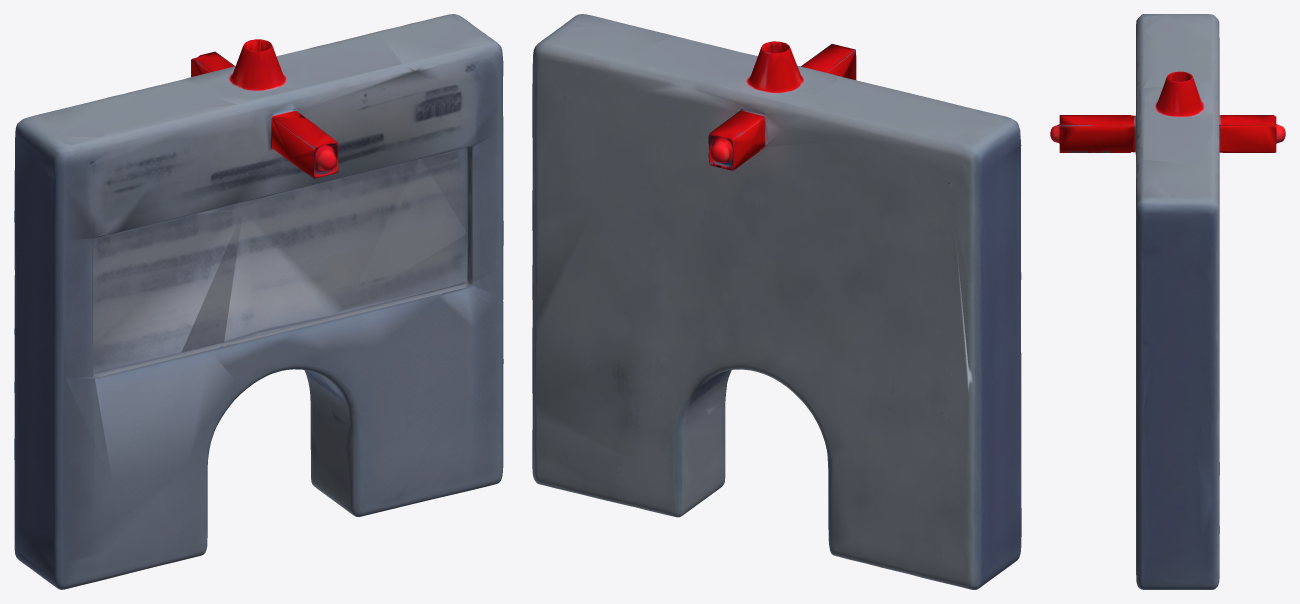
The model's file is obstacle_wallgap.glb.
3 renders of one model, left to right at view 1: azimuth 30°, elevation 25°; view 2: azimuth 150°, elevation 25°; view 3: azimuth 270°, elevation 25°, orthographic. The views are drawn at different scales.
Visible parts, largest first — view 1: model; view 2: model; view 3: model.
Part boxes in pixels (x1,y1,x2,y2): model: (14,14,503,589); model: (532,14,1021,589); model: (1050,14,1285,589).
Size of the model in its own units: 1.87 by 1.9 by 0.9662.
1 material, 1 textured.
